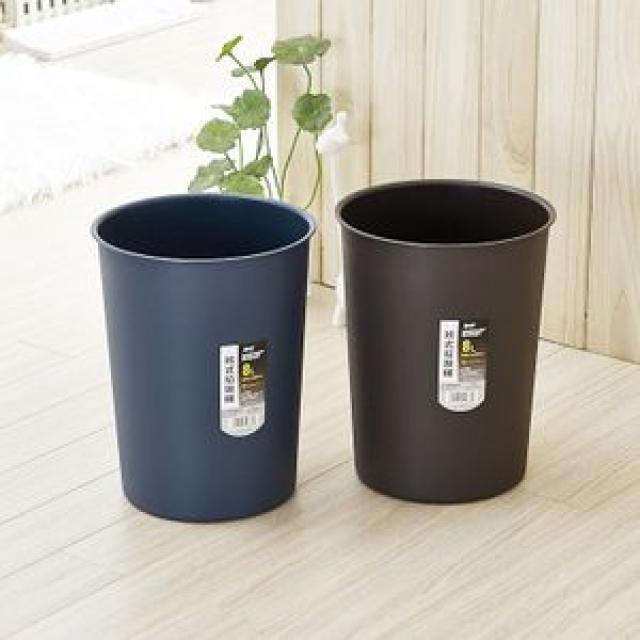dustbin: (84, 189, 316, 527), (330, 174, 561, 509)
